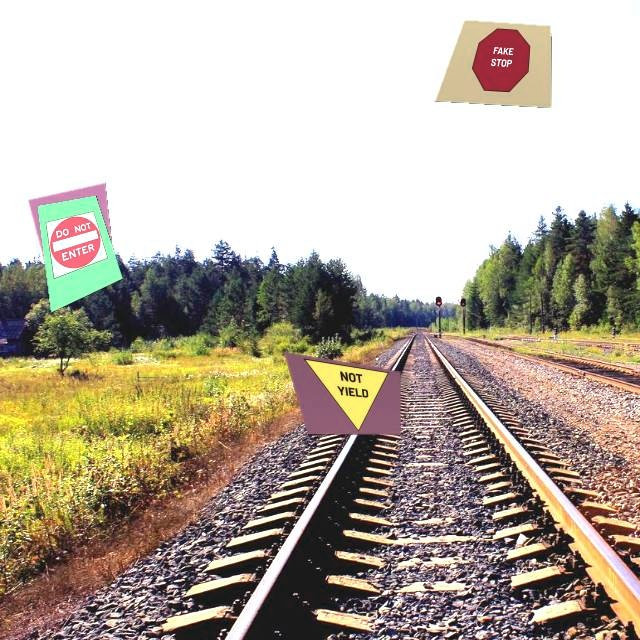DO_NOT_ENTER: (42, 208, 106, 282), (43, 211, 111, 279)
FAKE_STOP: (466, 27, 535, 93)
NOT_YIELD: (304, 359, 391, 432)
